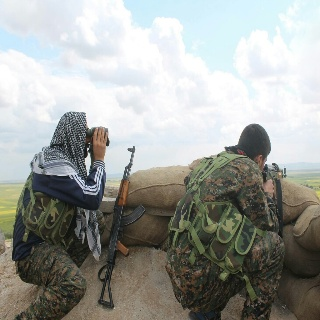rifle: (97, 144, 147, 314), (262, 161, 289, 184)
